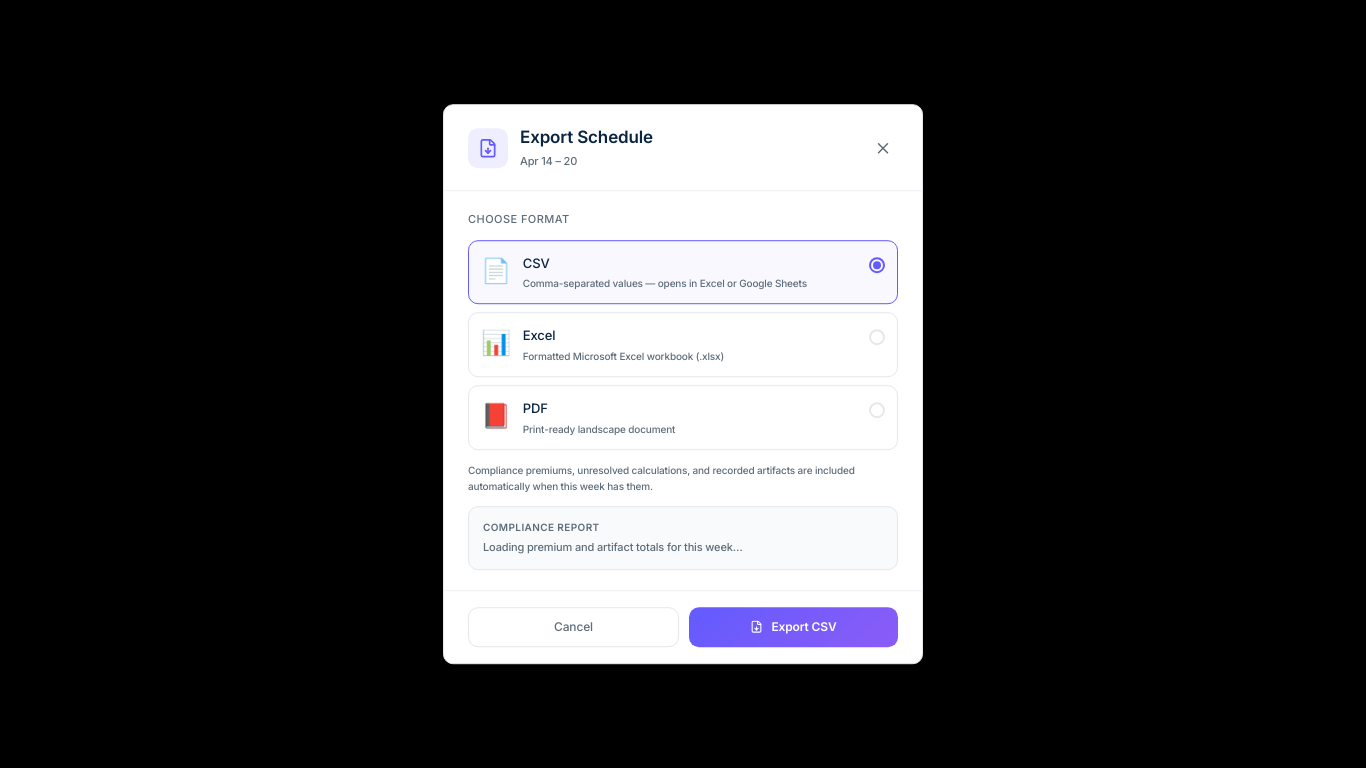
Test: ExportScheduleModal — format selection › clicking PDF changes the export button label to "Export PDF"
Click the text "PDF" at (535, 408), box [523,400,548,416]
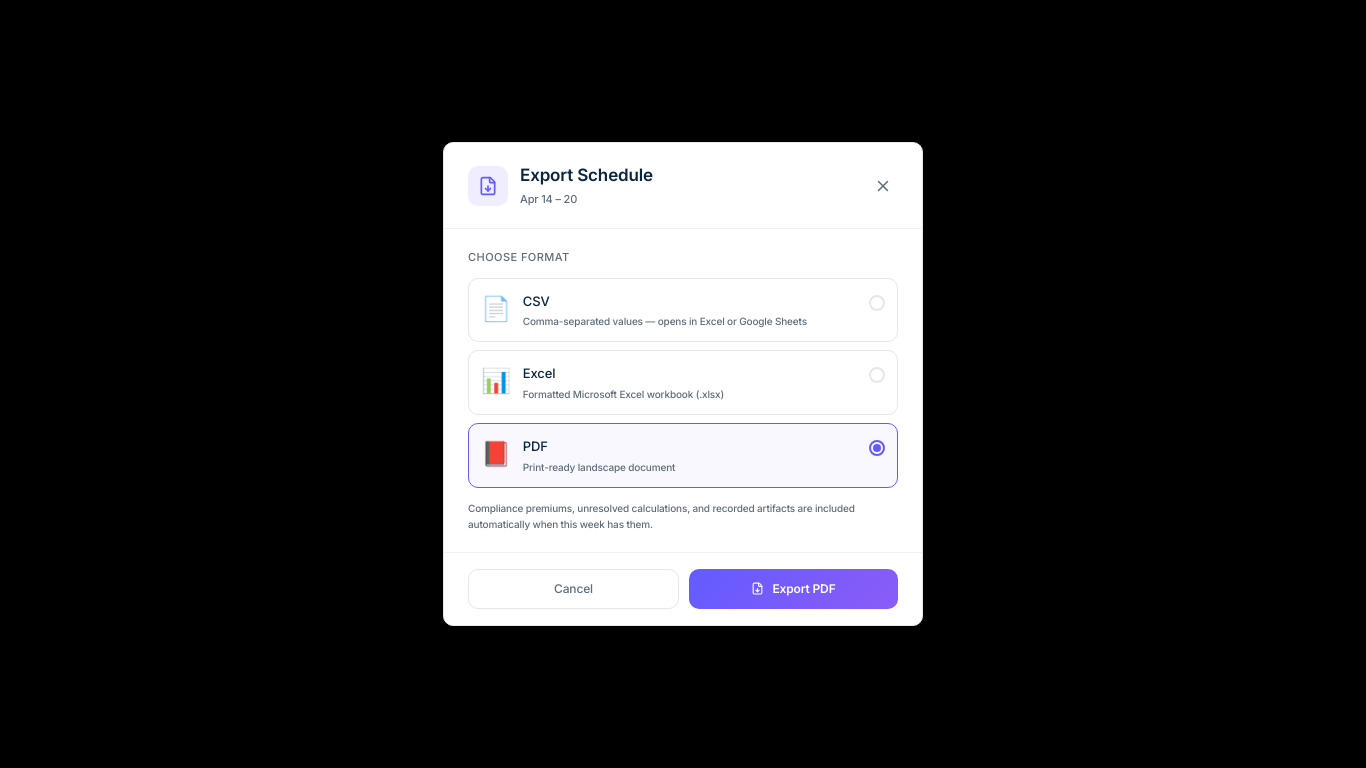
Check: the button "Export PDF" is shown, box [689,569,898,609]
